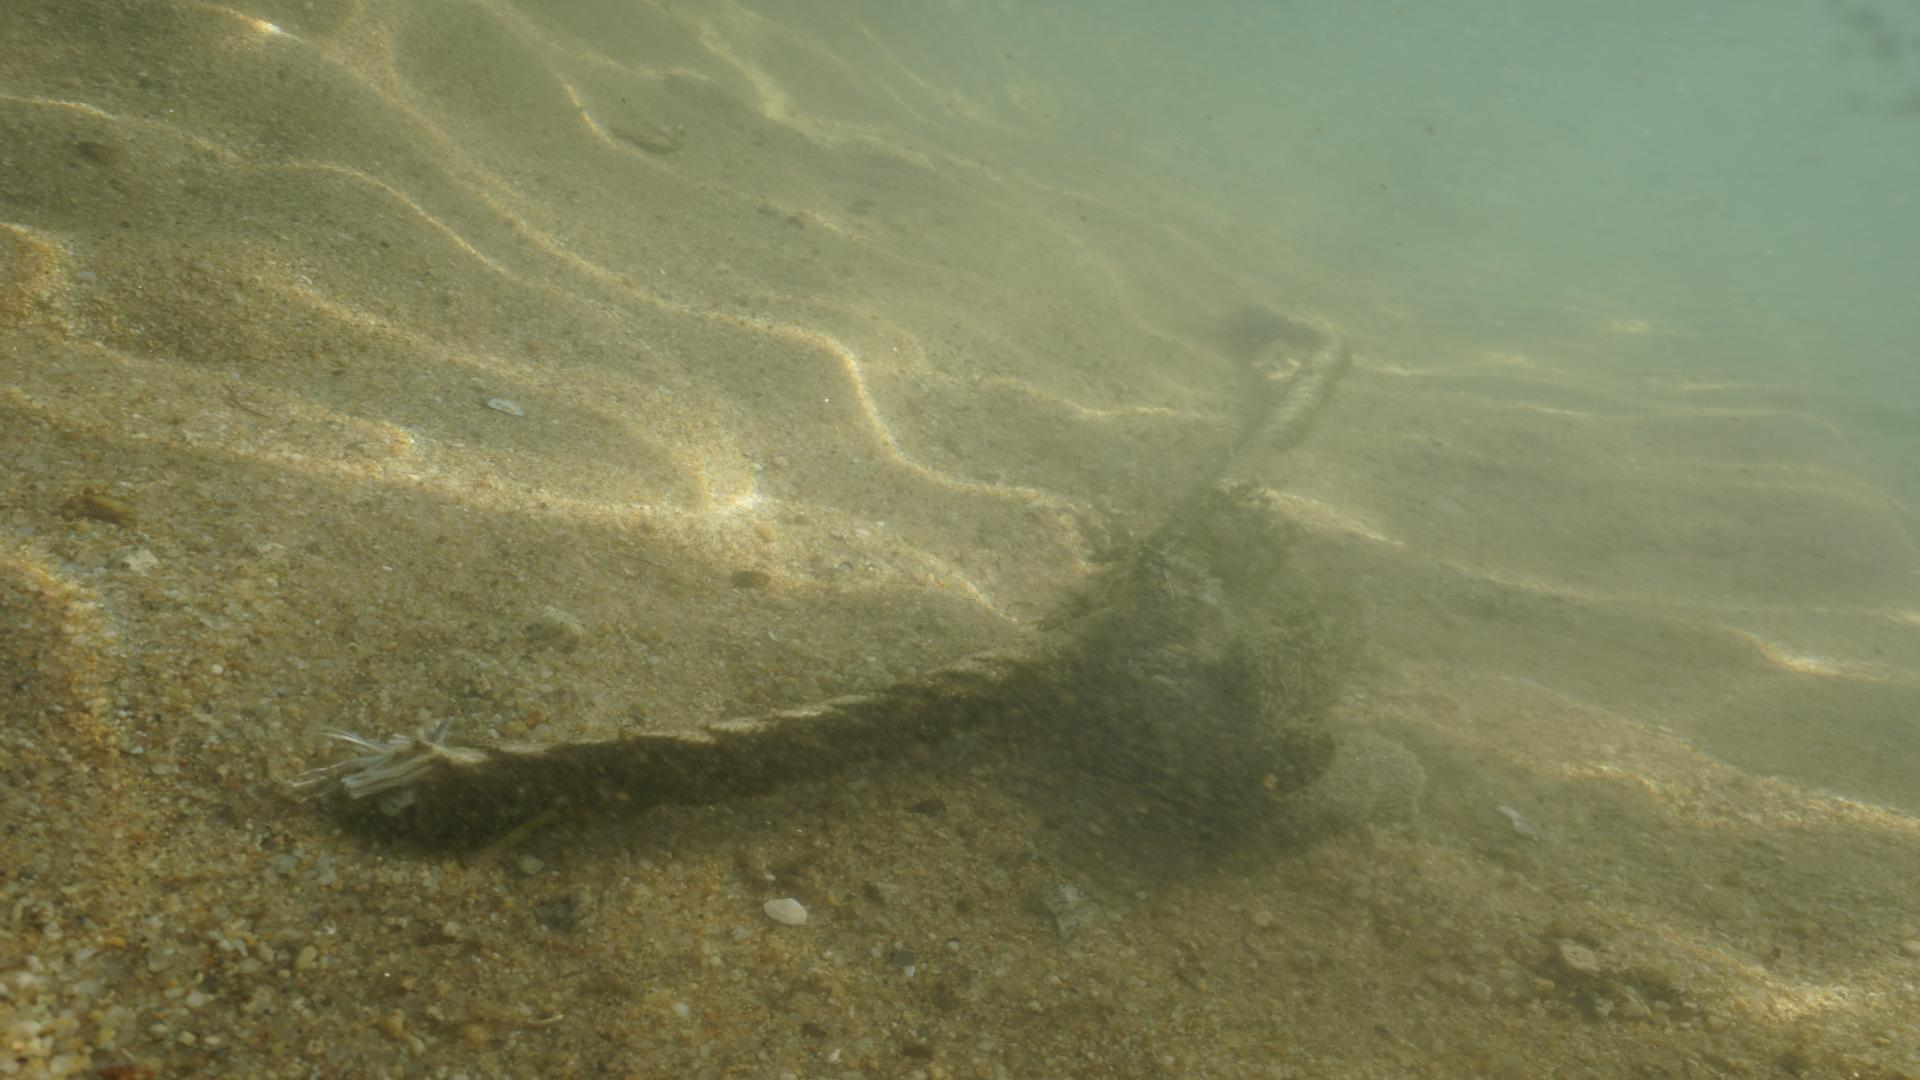rope: (336, 299, 1360, 829)
